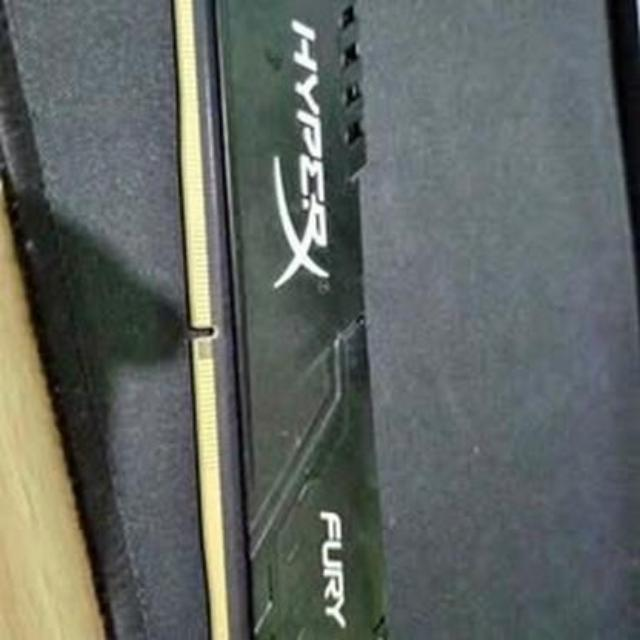RAM: (152, 0, 418, 640)
